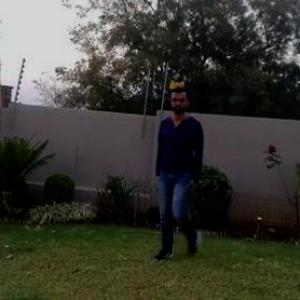follow: (152, 87, 211, 257)
